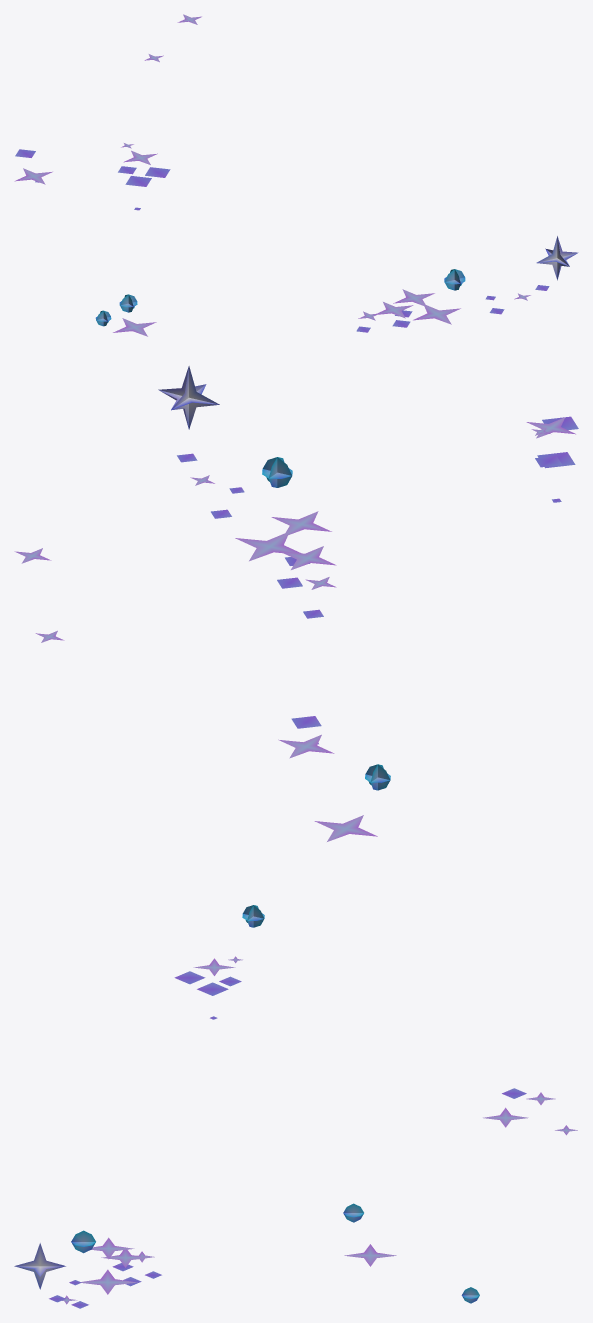
Rendered from space-stars-star-cluster_v24.glb.
The picture shows the model from 3 angles, top to bottom: view 1: azimuth 30°, elevation 25°; view 2: azimuth 150°, elevation 25°; view 3: azimuth 270°, elevation 25°; orthographic projection. The views are drawn at different scales.
Visible parts, largest first — view 1: Star Cluster_v24; view 2: Star Cluster_v24; view 3: Star Cluster_v24.
Boxes of the visible parts, x1,y1,x2,y2 form: Star Cluster_v24: (14,14,578,336); Star Cluster_v24: (14,366,578,927); Star Cluster_v24: (14,956,577,1308).
Size of the model in its own units: 0.4016 by 0.2917 by 0.5.
